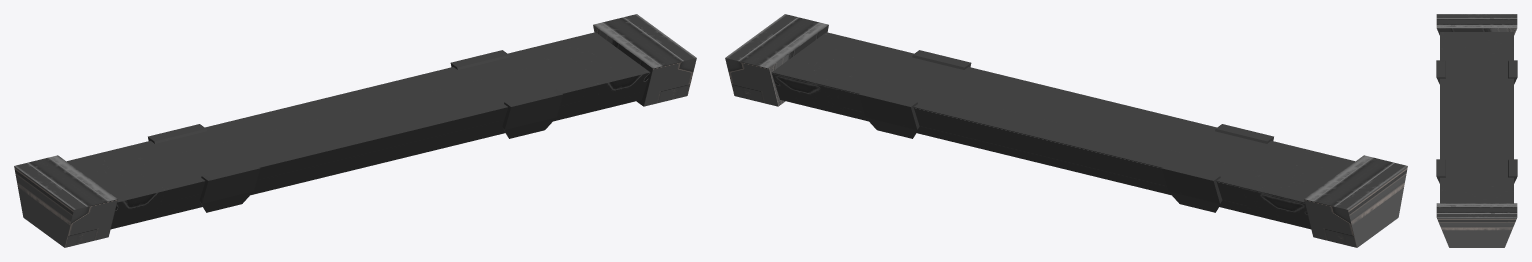
File: S_PropLightWide.gltf
The picture shows the model from 3 angles, left to right: view 1: azimuth 30°, elevation 25°; view 2: azimuth 150°, elevation 25°; view 3: azimuth 270°, elevation 25°; orthographic projection. The views are drawn at different scales.
Visible parts, largest first — view 1: Cube_053; view 2: Cube_053; view 3: Cube_053.
Boxes of the visible parts, <box> form: Cube_053: <box>14,14,696,247</box>; Cube_053: <box>725,14,1407,247</box>; Cube_053: <box>1436,14,1517,247</box>.
Bounding box in the file's own units: 2.64 × 0.1819 × 0.4453.
Materials: 2 (1 with a texture image).
